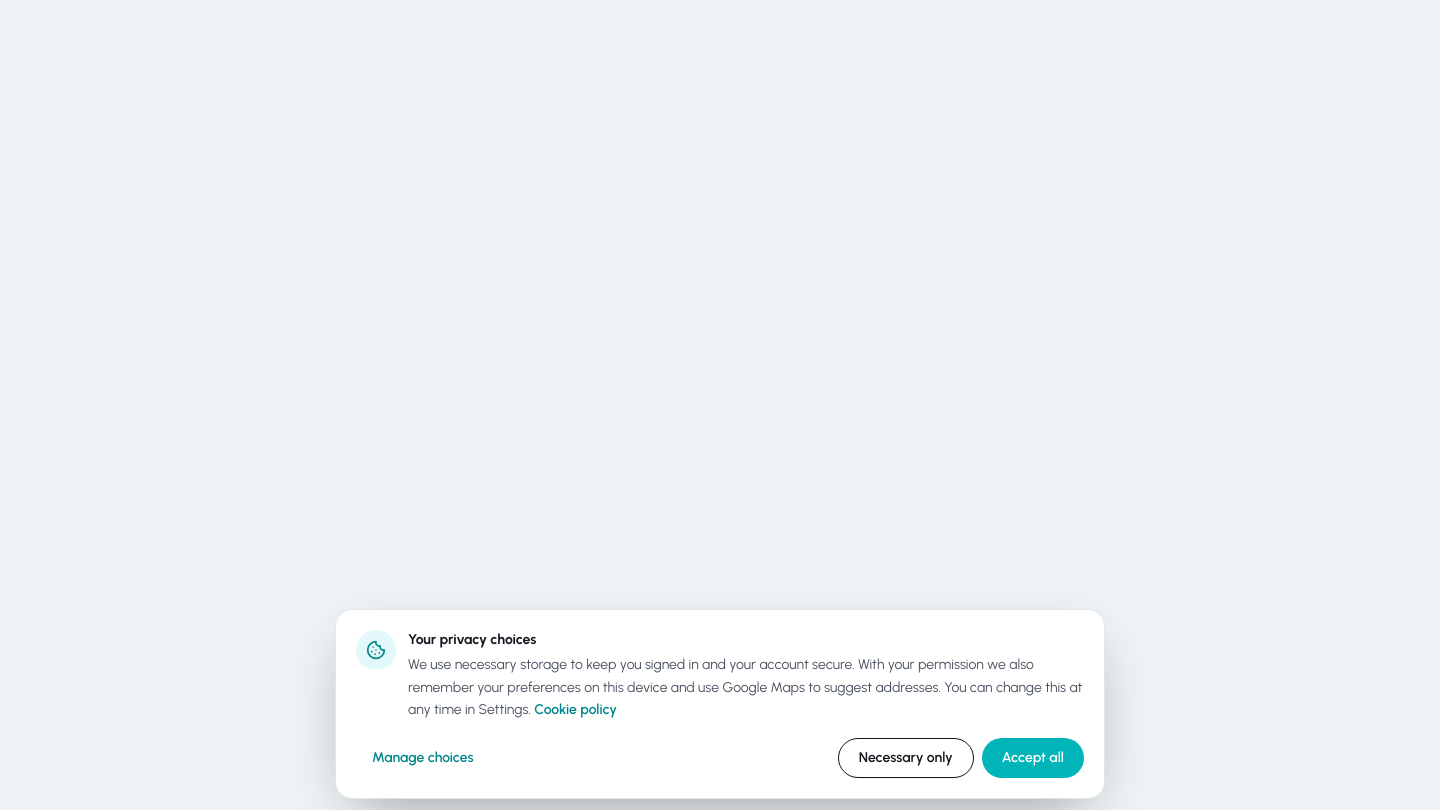
it: Cookie banner › can be reopened later to change the choice
Click the button "Accept all".
click(1033, 758)  # box x1=982 y1=738 x2=1084 y2=778
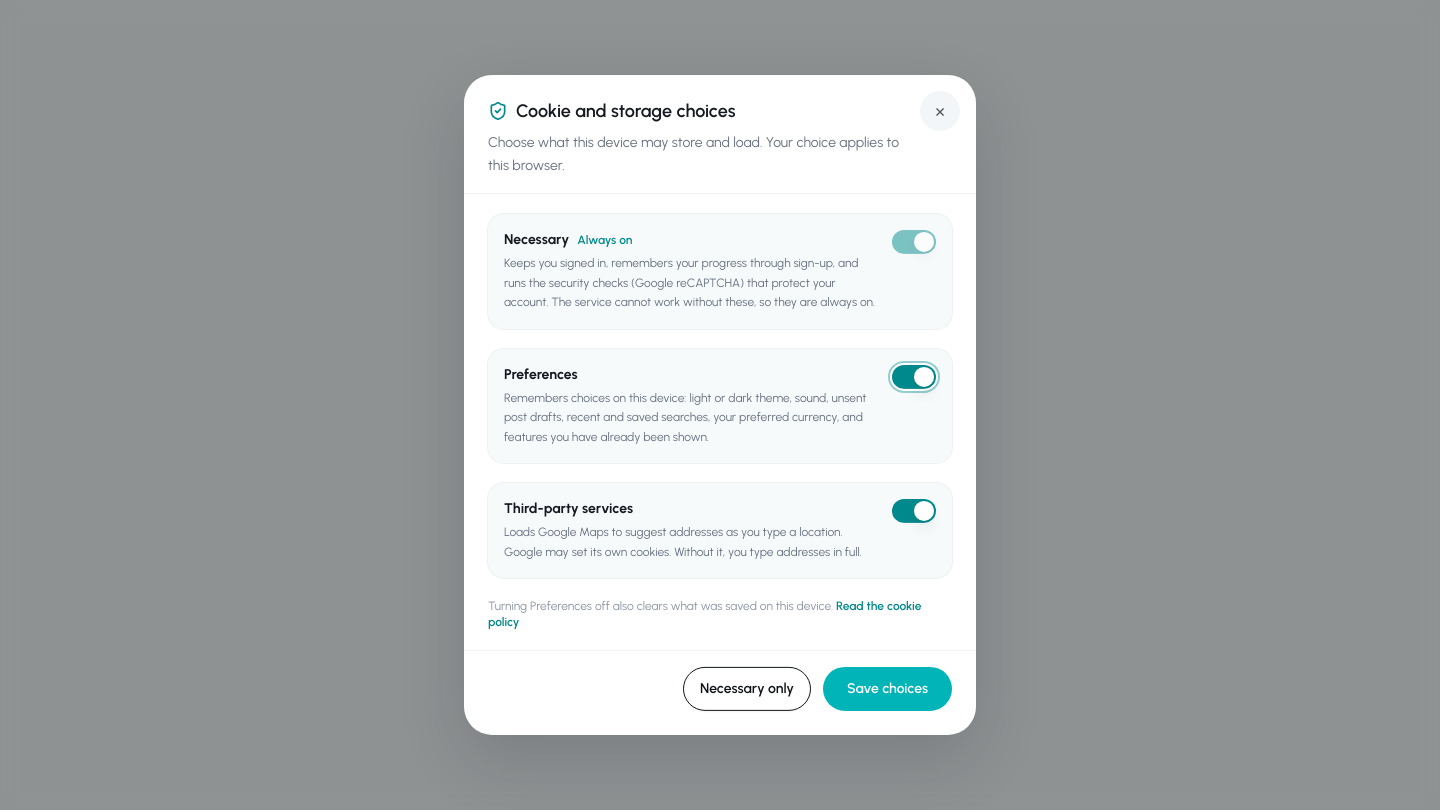
Check: the switch named "Third-party services" is checked, box x1=892 y1=499 x2=936 y2=523
